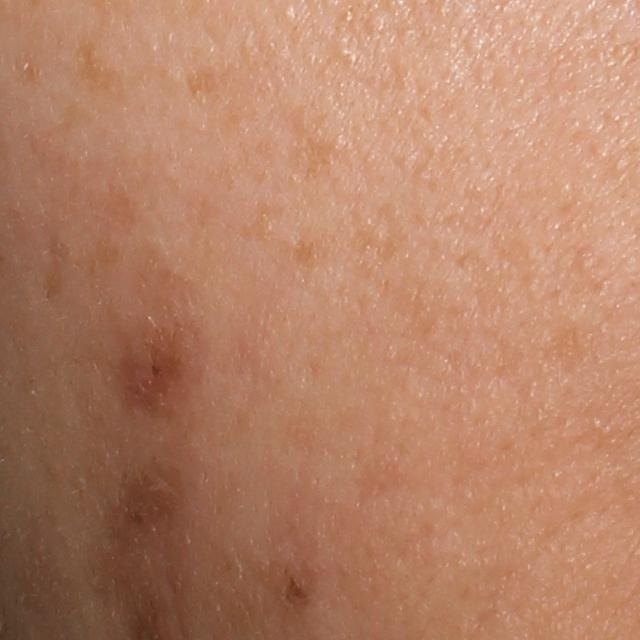comedo: (335, 43, 354, 62)
melasma: (173, 58, 235, 108), (70, 36, 123, 94), (43, 238, 76, 299)
